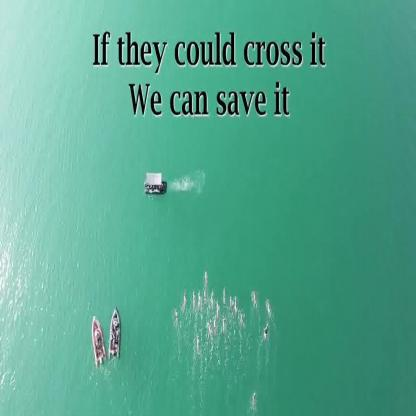Boat: (90, 310, 106, 364), (107, 307, 123, 360)
